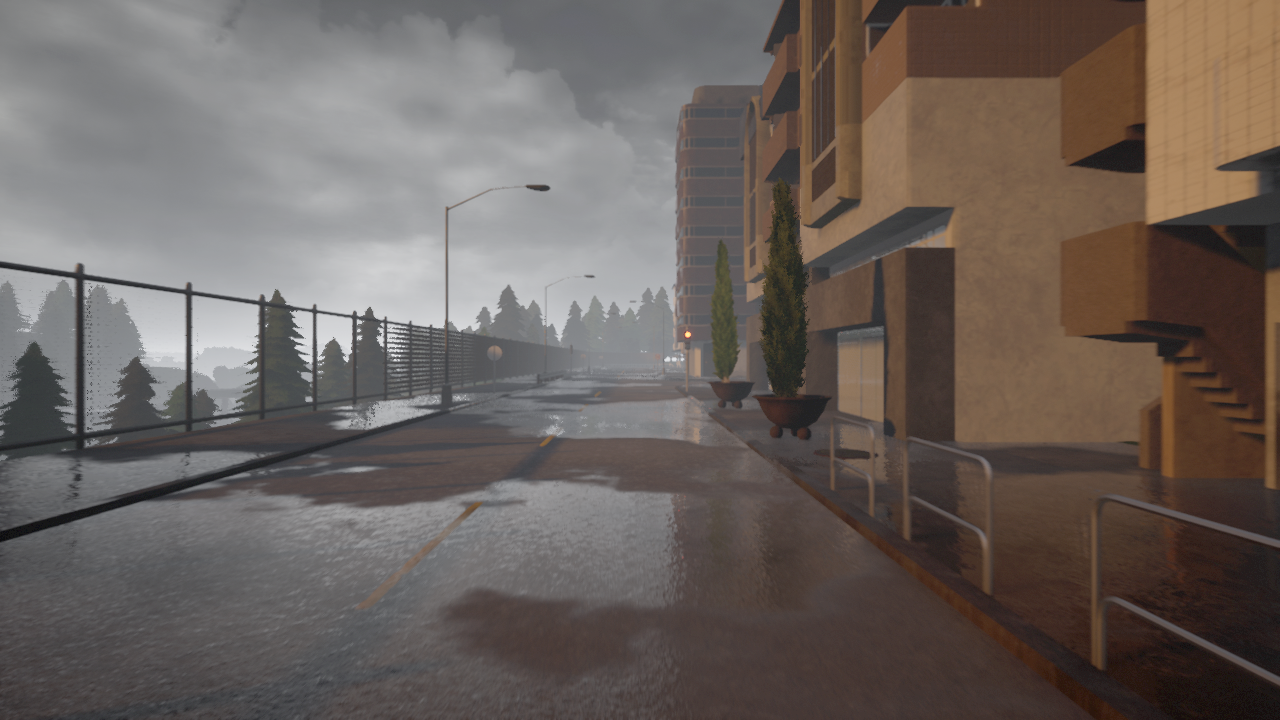red: (684, 330, 691, 350)
